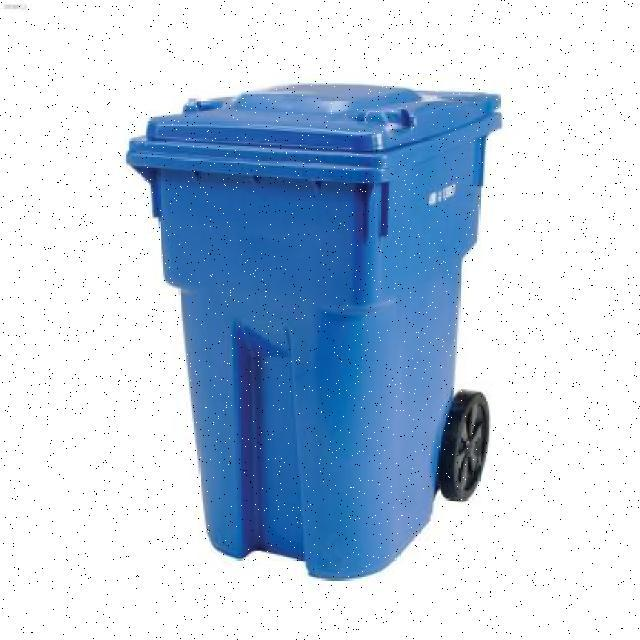garbage container: (122, 69, 511, 594)
